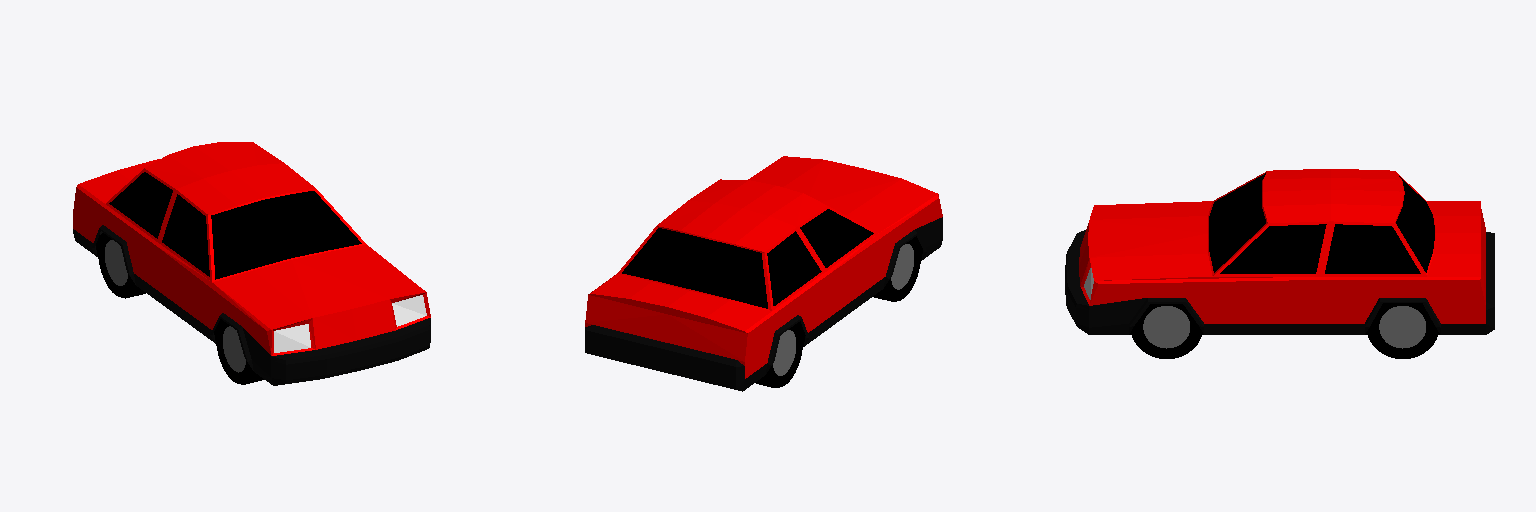
Rendered from Car.obj.
The picture shows the model from 3 angles: view 1: azimuth 30°, elevation 25°; view 2: azimuth 150°, elevation 25°; view 3: azimuth 270°, elevation 25°; orthographic projection.
Visible parts, largest first — view 1: メッシュ; view 2: メッシュ; view 3: メッシュ.
Boxes of the visible parts, x1,y1,x2,y2 form: メッシュ: [73, 142, 430, 385]; メッシュ: [585, 156, 942, 391]; メッシュ: [1065, 169, 1494, 358].
Bounding box in the file's own units: 2.1 × 1.59 × 4.67.